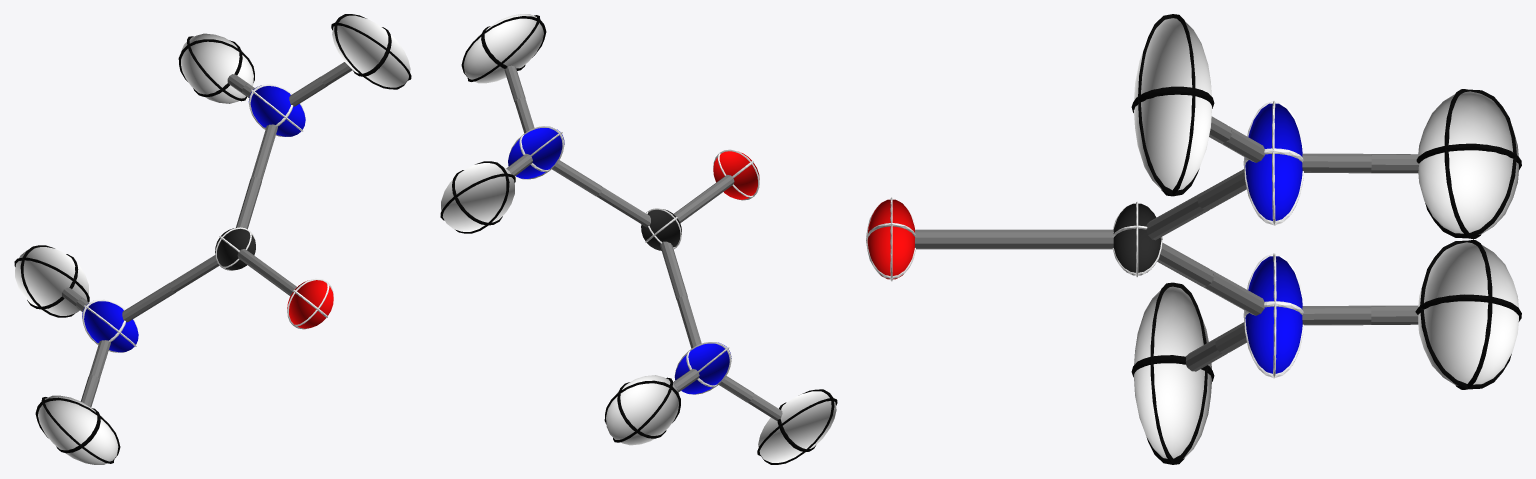
Rendered from urea_cc.obj.
3 renders of one model, left to right at view 1: azimuth 30°, elevation 25°; view 2: azimuth 150°, elevation 25°; view 3: azimuth 270°, elevation 25°, orthographic. The views are drawn at different scales.
Parts seen in each view (by area): view 1: object 7, H1, H2, object 8, object 6, N, O, C, object 17, N=C, C=N, object 18 (+3 smaller); view 2: H2, object 8, H1, object 7, N, object 6, O, C, object 18, C=N, N=C, object 17 (+5 smaller); view 3: object 8, H2, H1, object 7, object 6, N, O, C, C=O, O=C, object 22, N=H2 (+8 smaller).
Boxes of the visible parts, <box> form: object 7: <box>35,395,120,464</box>; H1: <box>331,14,411,89</box>; H2: <box>178,33,254,103</box>; object 8: <box>14,245,89,317</box>; object 6: <box>82,299,138,352</box>; N: <box>248,84,305,136</box>; O: <box>287,278,333,329</box>; C: <box>215,227,255,270</box>; object 17: <box>122,283,175,322</box>; N=C: <box>251,124,277,180</box>; C=N: <box>236,177,261,229</box>; object 18: <box>169,255,219,292</box>; H2: <box>440,161,515,233</box>; object 8: <box>604,375,680,445</box>; H1: <box>461,14,546,83</box>; object 7: <box>757,389,837,464</box>; N: <box>508,126,564,179</box>; object 6: <box>674,342,731,394</box>; O: <box>713,149,759,200</box>; C: <box>641,208,681,250</box>; object 18: <box>660,241,687,300</box>; C=N: <box>596,187,650,227</box>; N=C: <box>552,160,602,196</box>; object 17: <box>677,296,701,348</box>; object 8: <box>1415,239,1521,389</box>; H2: <box>1416,89,1521,239</box>; H1: <box>1131,14,1214,196</box>; object 7: <box>1131,282,1214,464</box>; object 6: <box>1243,253,1303,378</box>; N: <box>1243,100,1303,225</box>; O: <box>866,197,916,281</box>; C: <box>1112,201,1162,277</box>; C=O: <box>1014,229,1113,249</box>; O=C: <box>915,229,1014,249</box>; object 22: <box>1302,305,1371,325</box>; N=H2: <box>1302,153,1371,173</box>.
Bounding box in the file's own units: 3.59 × 3.59 × 3.36.
